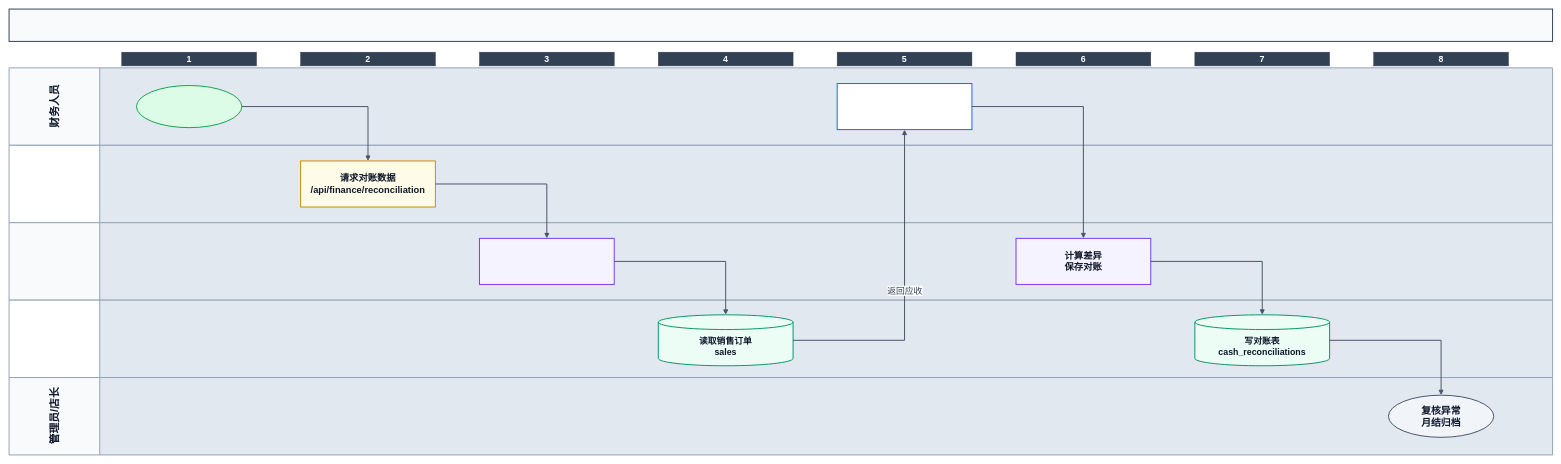
Some shapes in this 1561 by 464 pixel diagram are drawn without their labels. The box of each missing label's shape, as (x1, y1, x2, y2) in pixels:
后端服务: (8, 222, 1553, 300)
录入实收金额 填写备注: (836, 83, 972, 130)
按日期与支付方式汇总应收，录入实收后保存差异并进入月结复核: (9, 43, 1553, 60)
数据库: (8, 299, 1553, 378)
汇总销售应收 sales.actual_amount: (479, 238, 614, 285)
财务日结对账泳道图: (8, 8, 1553, 42)
财务页面: (8, 145, 1553, 223)
选择日期/支付方式: (136, 85, 242, 128)
